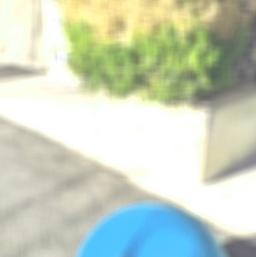algae: (73, 195, 234, 257)
